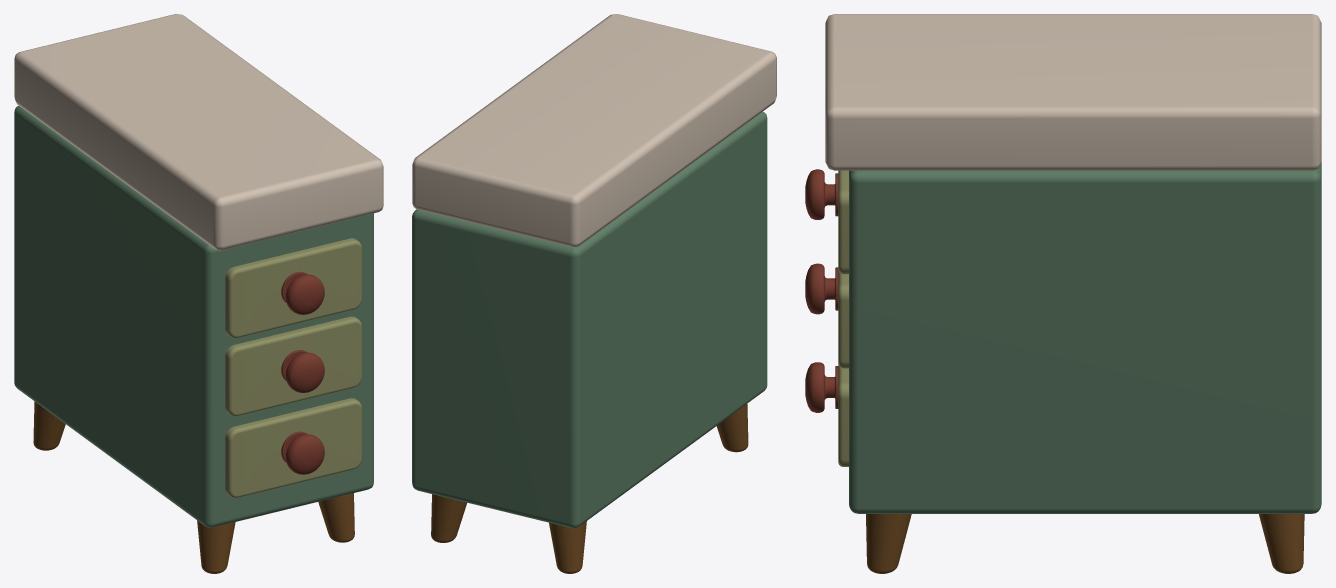
Rendered from SM_Kitchen_Cabinet_E.fbx.
3 views of the same model, side by side, from view 1: azimuth 30°, elevation 25°; view 2: azimuth 150°, elevation 25°; view 3: azimuth 270°, elevation 25° (orthographic). The views are drawn at different scales.
Visible parts, largest first — view 1: Cube.032, Cube.034, Cube.035, Cube.033, Cube.036, Cylinder.012, SM_Shelf_Dresser_A_Drawer_01.008, SM_Shelf_Dresser_A_Drawer_01.006, SM_Shelf_Dresser_A_Drawer_01.007; view 2: Cube.032, Cube.034, Cylinder.012; view 3: Cube.032, Cube.034, Cylinder.012, SM_Shelf_Dresser_A_Drawer_01.007, SM_Shelf_Dresser_A_Drawer_01.006, SM_Shelf_Dresser_A_Drawer_01.008, Cube.033, Cube.036, Cube.035.
Part boxes in pixels (left/top/right/bottom): Cube.032: left=14, top=105, right=373, bottom=527; Cube.034: left=14, top=14, right=383, bottom=250; Cube.035: left=225, top=316, right=362, bottom=416; Cube.033: left=225, top=238, right=362, bottom=337; Cube.036: left=225, top=398, right=362, bottom=497; Cylinder.012: left=33, top=401, right=354, bottom=573; SM_Shelf_Dresser_A_Drawer_01.008: left=281, top=431, right=324, bottom=474; SM_Shelf_Dresser_A_Drawer_01.006: left=281, top=271, right=324, bottom=314; SM_Shelf_Dresser_A_Drawer_01.007: left=281, top=350, right=324, bottom=392; Cube.032: left=412, top=112, right=767, bottom=528; Cube.034: left=412, top=14, right=776, bottom=247; Cylinder.012: left=431, top=404, right=748, bottom=573; Cube.032: left=849, top=162, right=1321, bottom=513; Cube.034: left=825, top=14, right=1321, bottom=170; Cylinder.012: left=866, top=514, right=1304, bottom=573; SM_Shelf_Dresser_A_Drawer_01.007: left=805, top=263, right=838, bottom=314; SM_Shelf_Dresser_A_Drawer_01.006: left=805, top=169, right=838, bottom=219; SM_Shelf_Dresser_A_Drawer_01.008: left=805, top=362, right=838, bottom=412; Cube.033: left=838, top=170, right=848, bottom=274; Cube.036: left=838, top=365, right=848, bottom=466; Cube.035: left=838, top=270, right=848, bottom=368.
Size of the model in its own units: 50 by 110 by 109.
